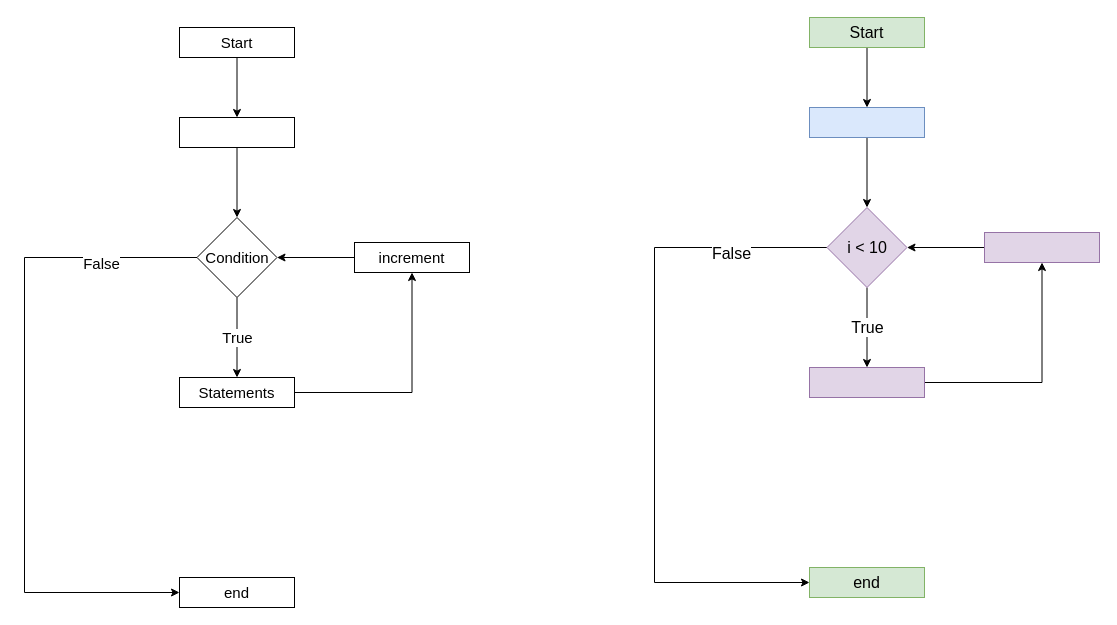
The diagram is 1117 pixels wide and 625 high, and some of its shapes have lost their labels. Each missing label, with the centre of its shape:
i ++: (x=1042, y=247)
i = 0: (x=866, y=122)
init: (x=236, y=132)
sout(i): (x=866, y=382)
